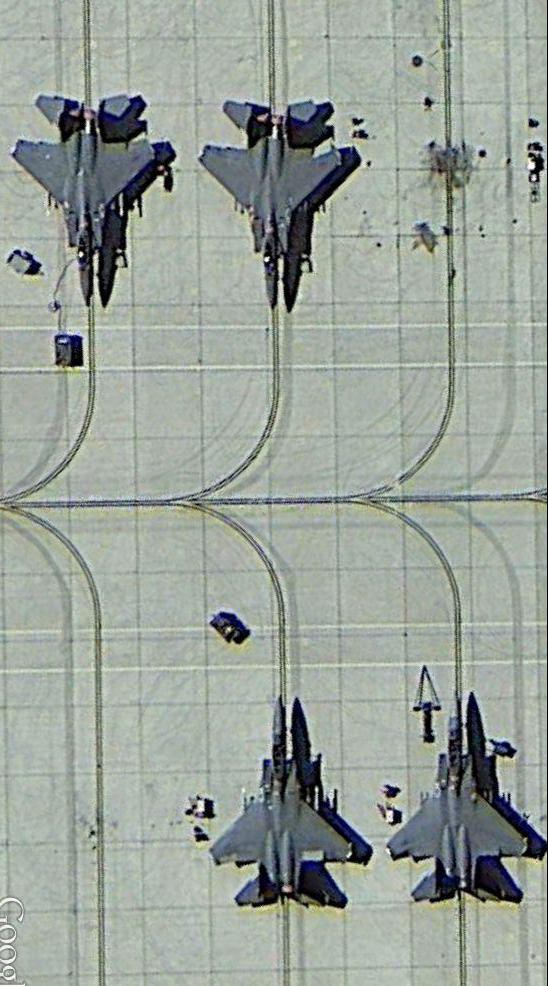F-15: (197, 87, 347, 308), (205, 701, 358, 917), (13, 87, 155, 316), (387, 700, 532, 908)
